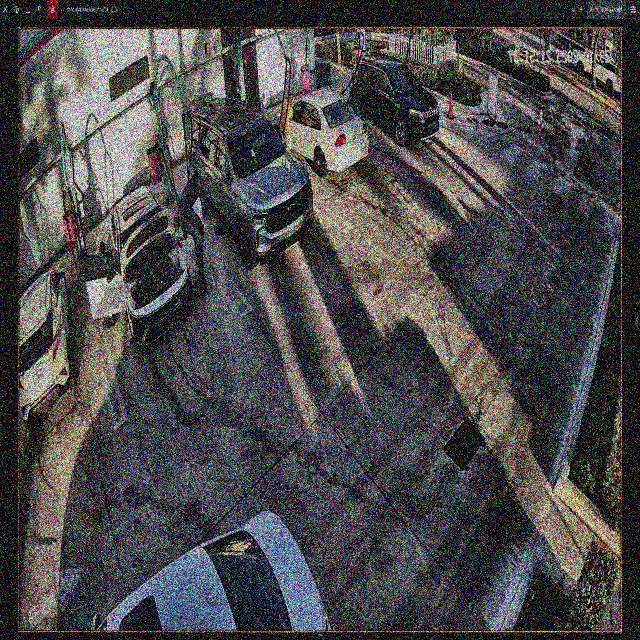Car: (188, 101, 311, 270), (87, 180, 199, 343), (350, 54, 440, 147), (273, 88, 368, 174)
